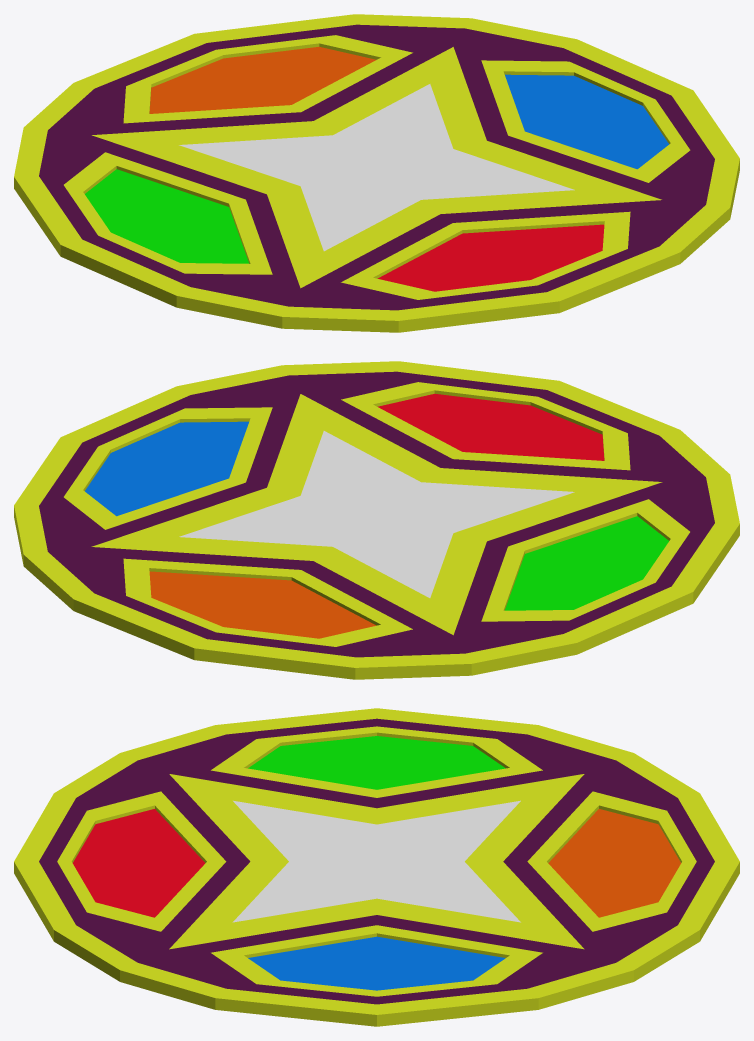
The model's file is Cerpet.fbx.
3 renders of one model, top to bottom at view 1: azimuth 30°, elevation 25°; view 2: azimuth 150°, elevation 25°; view 3: azimuth 270°, elevation 25°, orthographic.
Parts seen in each view (by area): view 1: Plane; view 2: Plane; view 3: Plane.
Boxes of the visible parts, x1,y1,x2,y2 form: Plane: (14,14,739,332); Plane: (14,361,739,679); Plane: (14,708,739,1026).
Size of the model in its own units: 761 by 13.63 by 761.
